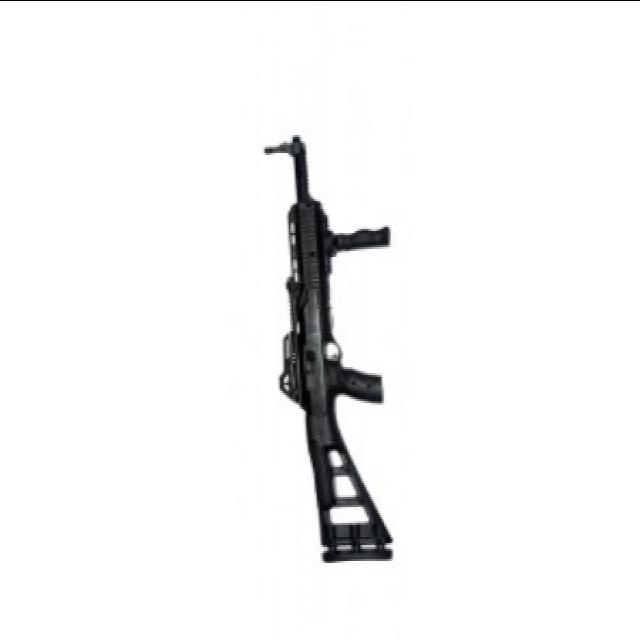rifle: (256, 121, 397, 585)
